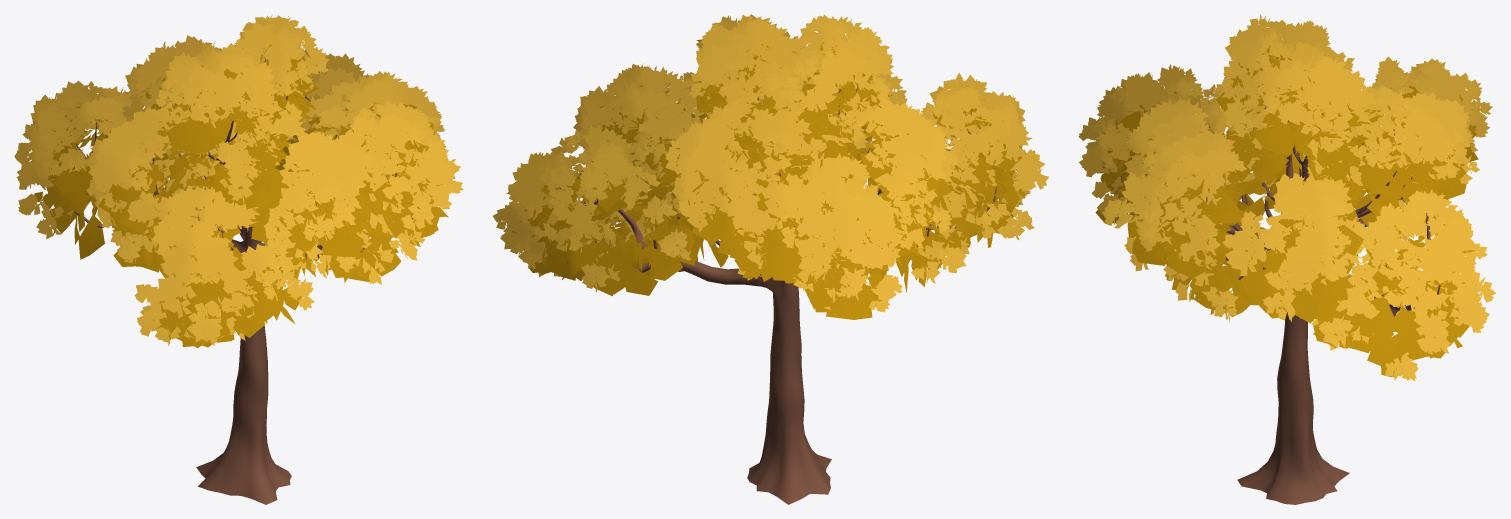
File: tree_orange.fbx
The picture shows the model from 3 angles, left to right: view 1: azimuth 30°, elevation 25°; view 2: azimuth 150°, elevation 25°; view 3: azimuth 270°, elevation 25°; orthographic projection. The views are drawn at different scales.
Visible parts, largest first — view 1: tree_orange; view 2: tree_orange; view 3: tree_orange.
Boxes of the visible parts, <box> form: tree_orange: <box>14,15,463,504</box>; tree_orange: <box>493,14,1048,504</box>; tree_orange: <box>1078,14,1495,504</box>.
Bounding box in the file's own units: 5.2 × 4.78 × 5.65.
